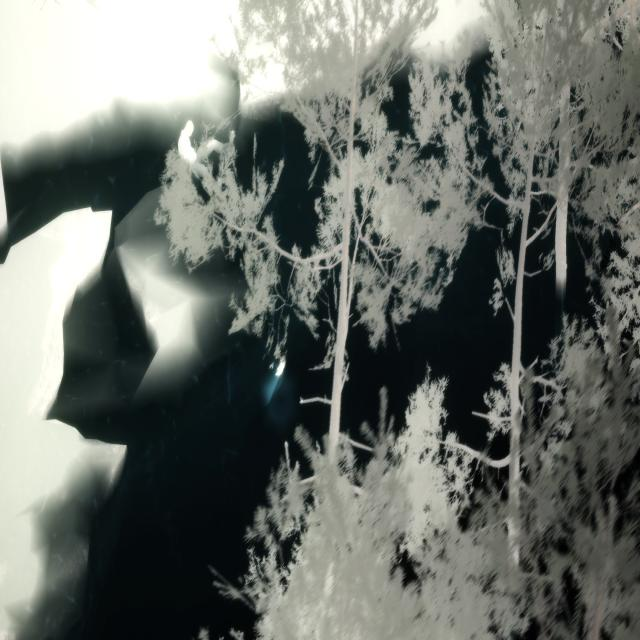Human: (176, 112, 237, 186)
